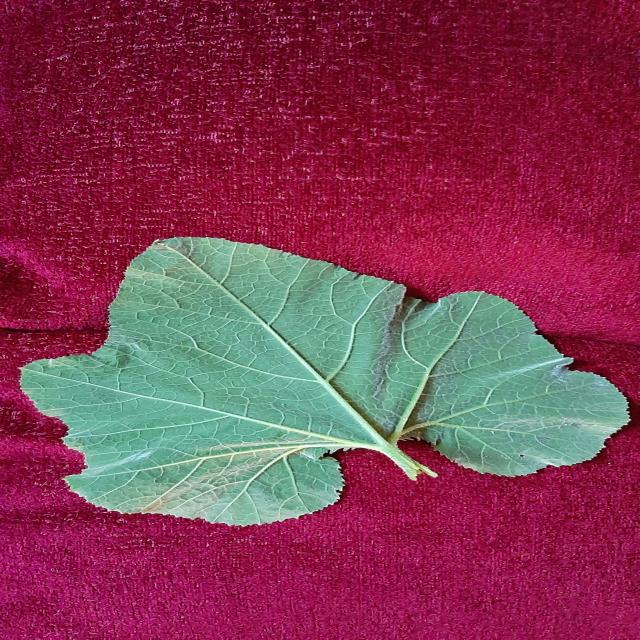pumpkin: (22, 238, 629, 525)
